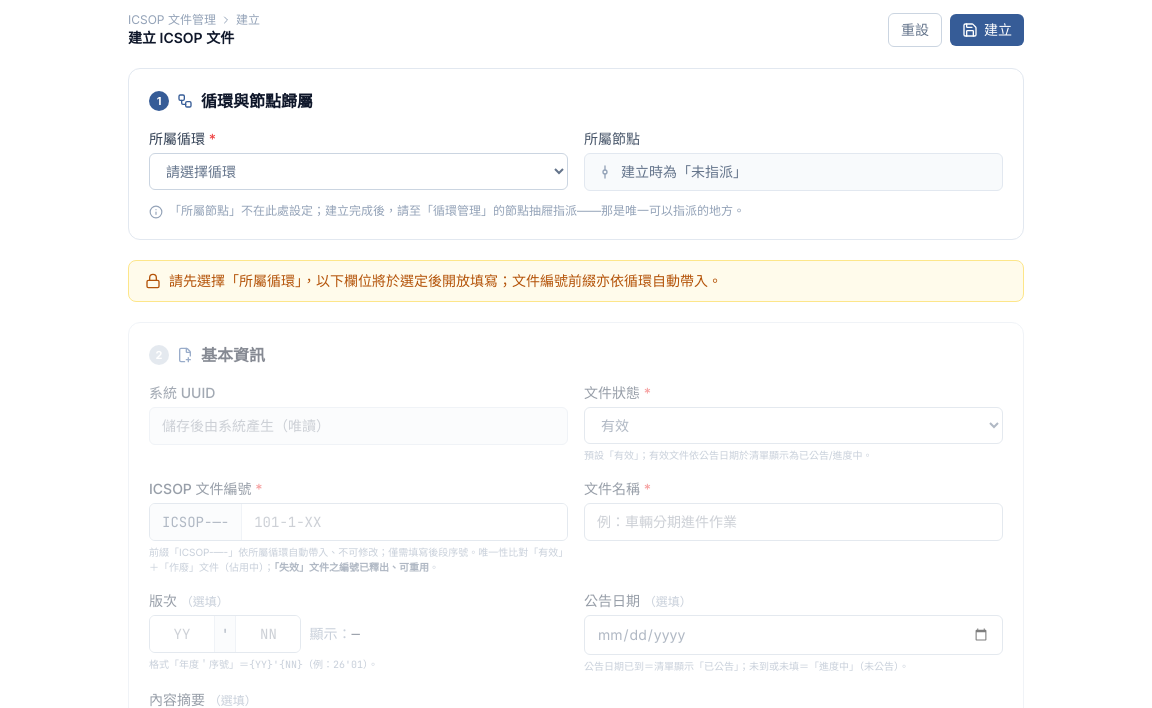
Test: DocumentCreatePage — F010 AC-S1 未選子分類即送出被擋（AC-21） › 僅選定名稱、未選子分類 → 不呼叫 createDocument，且顯示 #subErr
The image size is (1152, 708).
Select "銷售及收款循環" in the dropdown named "所屬循環－循環名稱" at (358, 172), box [149,153,568,190]
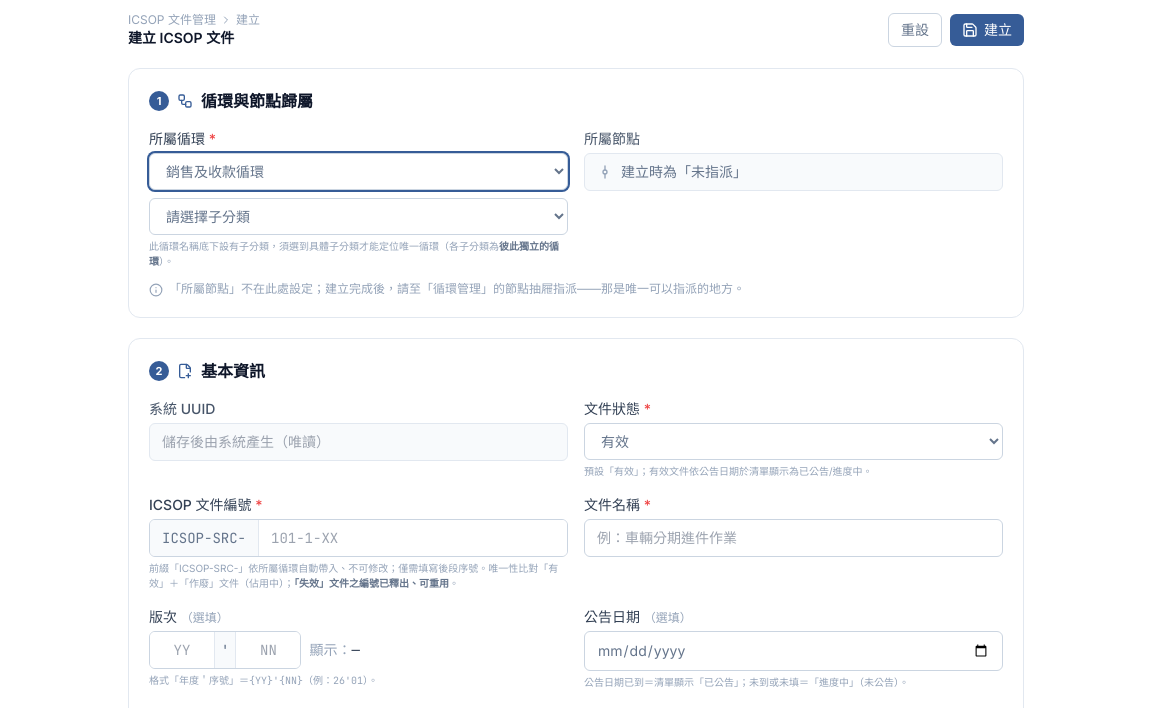
Check: the dropdown named "所屬循環－子分類" is shown, box [149,198,568,235]
Type "101-1-01" into the field labelled "ICSOP 文件編號 *".
click(413, 538); type("101-1-01")  # box [259,520,567,556]
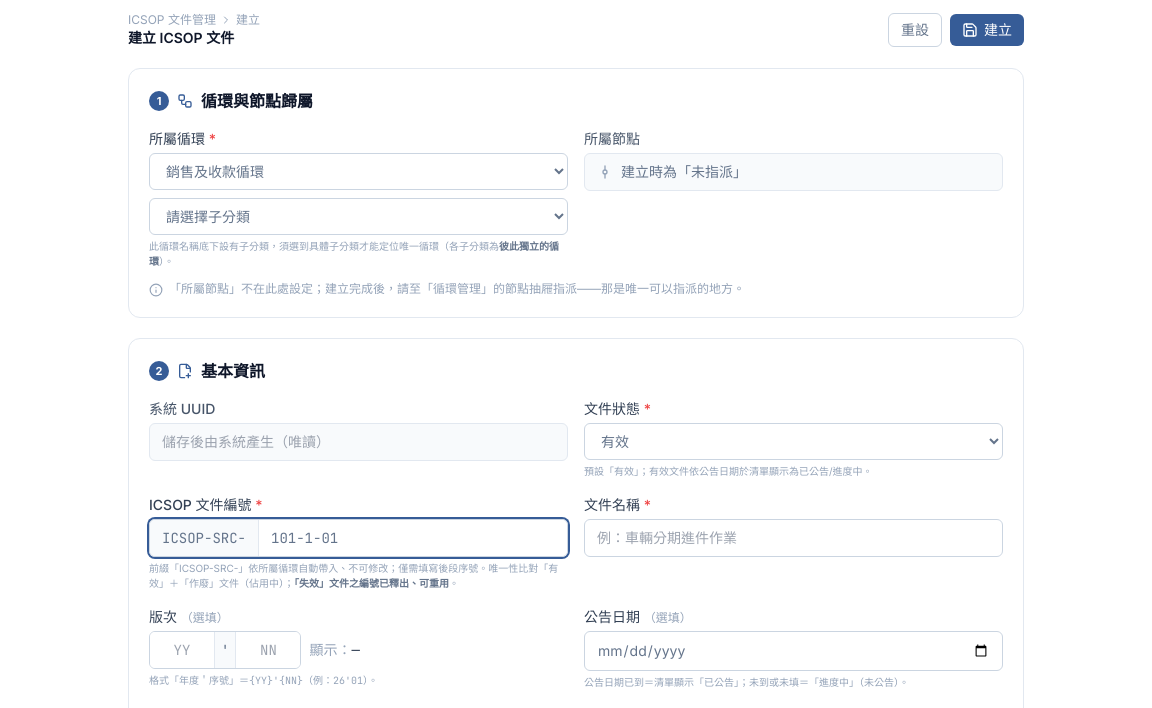
Type "車輛分期進件作業" into the field labelled "文件名稱 *".
click(794, 538); type("車輛分期進件作業")  # box [584,519,1003,557]
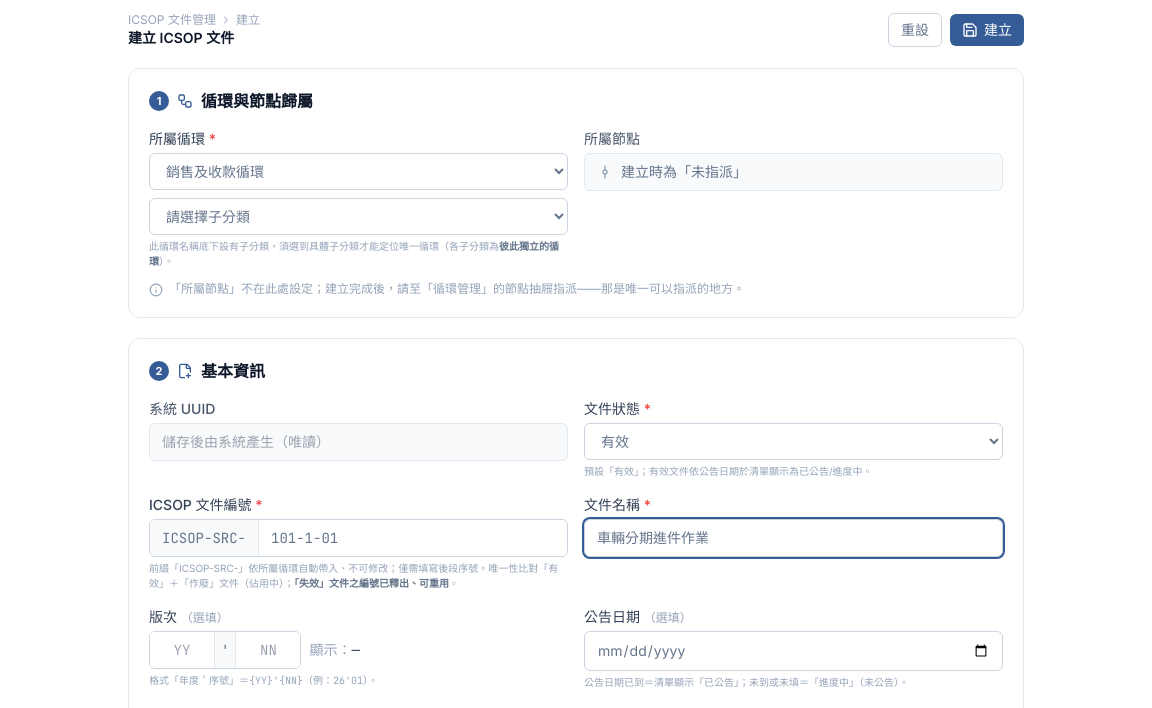
Click the button "建立".
click(987, 30)  # box [950,14,1024,46]
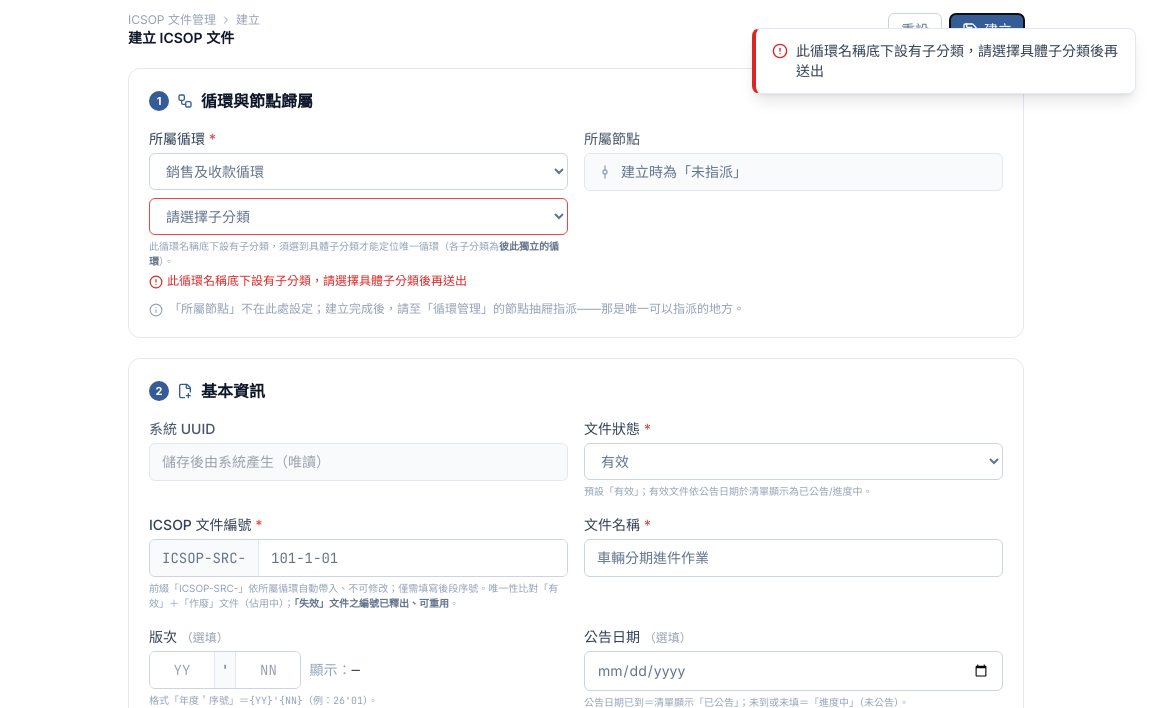
Check: the element with id "subErr" is shown, box [149,273,467,289]
Check: the element with id "subErr" reads "此循環名稱底下設有子分類，請選擇具體子分類後再送出", box [167,273,467,288]
